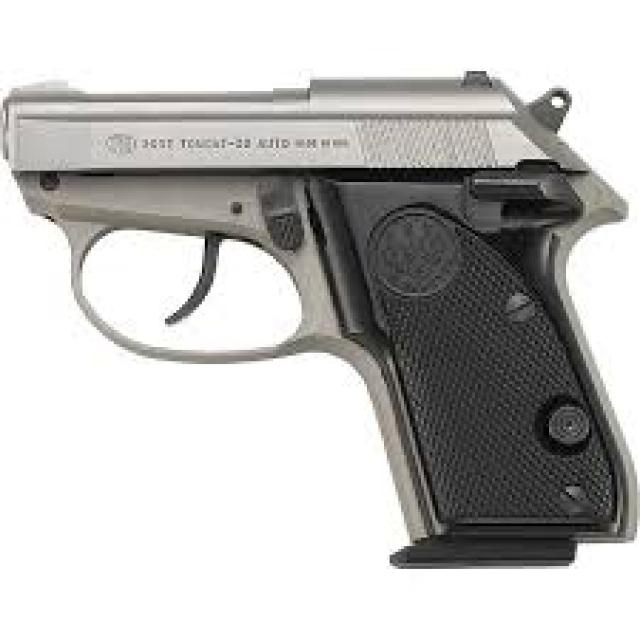pistol: (1, 62, 640, 582)
